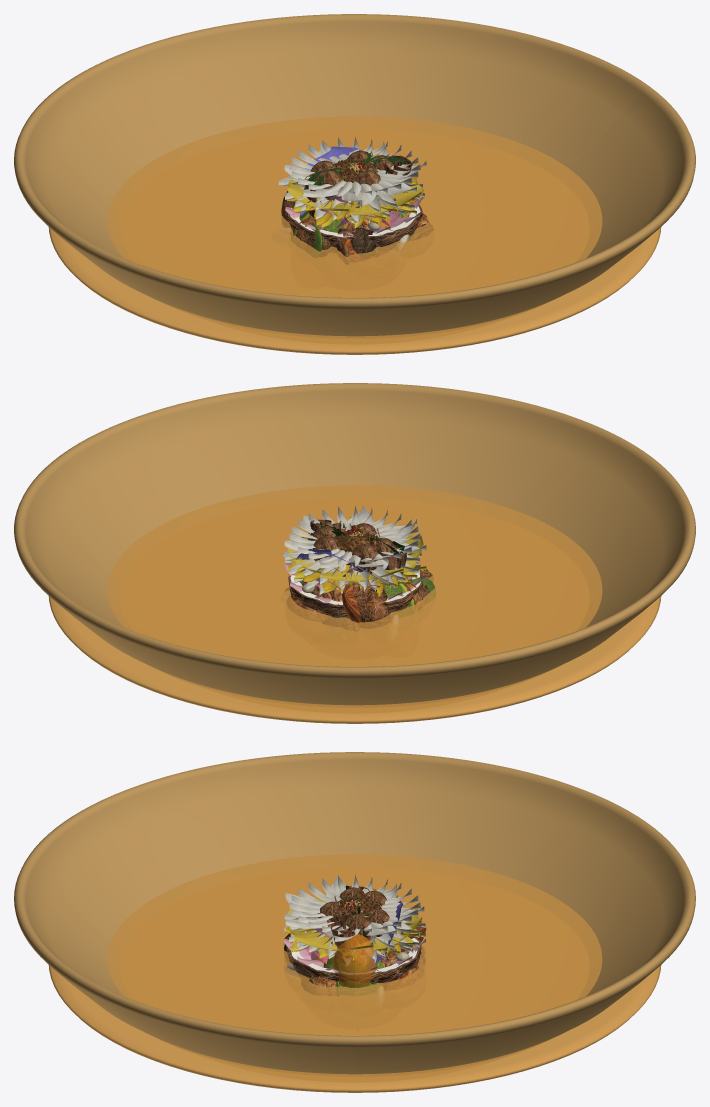
Rendered from botanicals-realistic-uncompressed.glb.
The picture shows the model from 3 angles, top to bottom: view 1: azimuth 30°, elevation 25°; view 2: azimuth 150°, elevation 25°; view 3: azimuth 270°, elevation 25°; orthographic projection.
Visible parts, largest first — view 1: Vessel, Oil, Ingredient_17, Ingredient_52, Ingredient_06, Ingredient_48, Ingredient_07, Ingredient_44, Ingredient_14, Ingredient_46, Ingredient_33, Ingredient_37; view 2: Vessel, Oil, Ingredient_17, Ingredient_33, Ingredient_48, Ingredient_52, Ingredient_14, Ingredient_44, Ingredient_06, Ingredient_07, Ingredient_18; view 3: Vessel, Oil, Ingredient_17, Ingredient_52, Ingredient_04, Ingredient_48, Ingredient_06, Ingredient_07, Ingredient_14, Ingredient_16, Ingredient_44, Ingredient_18 (+3 smaller).
Part boxes in pixels (box(x1,y1,x2,y2)): Vessel: box(14, 14, 695, 338); Oil: box(48, 116, 661, 354); Ingredient_17: box(289, 137, 420, 197); Ingredient_52: box(284, 198, 422, 252); Ingredient_06: box(287, 162, 423, 215); Ingredient_48: box(311, 150, 393, 198); Ingredient_07: box(284, 141, 426, 205); Ingredient_44: box(287, 159, 414, 226); Ingredient_14: box(278, 175, 422, 225); Ingredient_46: box(350, 227, 376, 259); Ingredient_33: box(281, 191, 377, 260); Ingredient_37: box(304, 223, 433, 256); Vessel: box(14, 383, 695, 707); Oil: box(48, 485, 661, 723); Ingredient_17: box(289, 506, 420, 566); Ingredient_33: box(301, 573, 425, 628); Ingredient_48: box(310, 523, 396, 573); Ingredient_52: box(288, 564, 423, 616); Ingredient_14: box(283, 551, 421, 593); Ingredient_44: box(288, 529, 426, 597); Ingredient_06: box(287, 517, 423, 582); Ingredient_07: box(284, 506, 426, 569); Ingredient_18: box(310, 519, 406, 583); Vessel: box(14, 752, 695, 1076); Oil: box(48, 854, 661, 1092); Ingredient_17: box(289, 875, 420, 935); Ingredient_52: box(286, 937, 422, 983); Ingredient_04: box(332, 933, 377, 987); Ingredient_48: box(315, 887, 389, 942); Ingredient_06: box(287, 888, 422, 950); Ingredient_07: box(285, 876, 424, 941); Ingredient_14: box(284, 895, 425, 964); Ingredient_16: box(323, 957, 383, 995); Ingredient_44: box(285, 897, 424, 967); Ingredient_18: box(327, 886, 369, 962).
Size of the model in its own units: 2.97 by 0.656 by 2.97.
7 materials, 3 textured.
